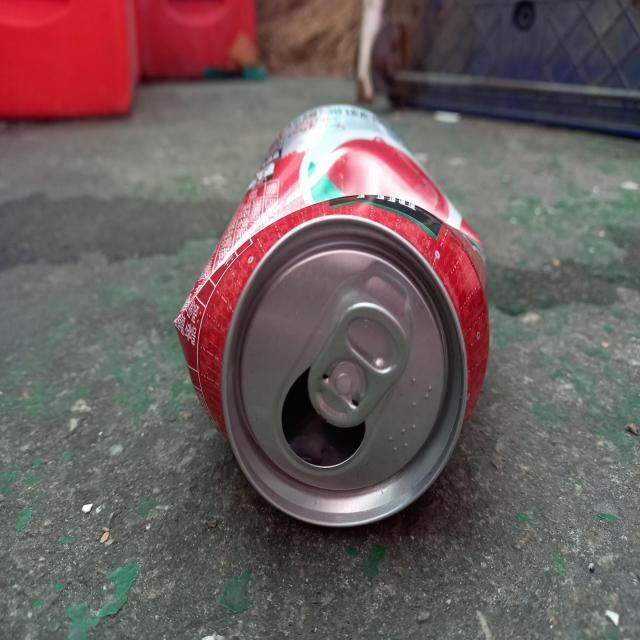can: (174, 104, 490, 527)
